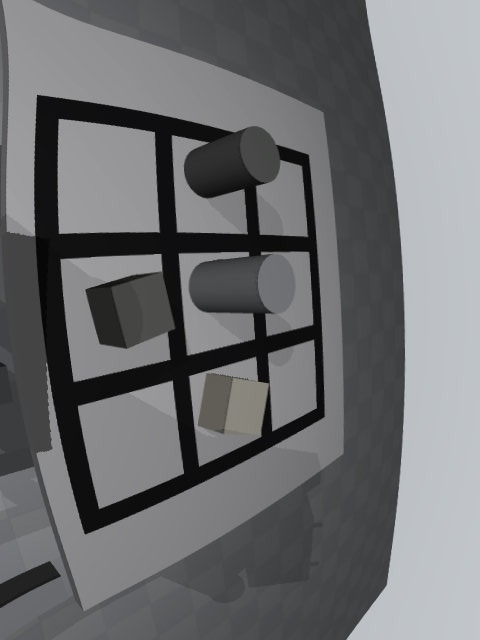can: (188, 254, 296, 314)
cube: (85, 271, 176, 349)
cylinder: (184, 126, 280, 198)
foam: (198, 373, 269, 435)
